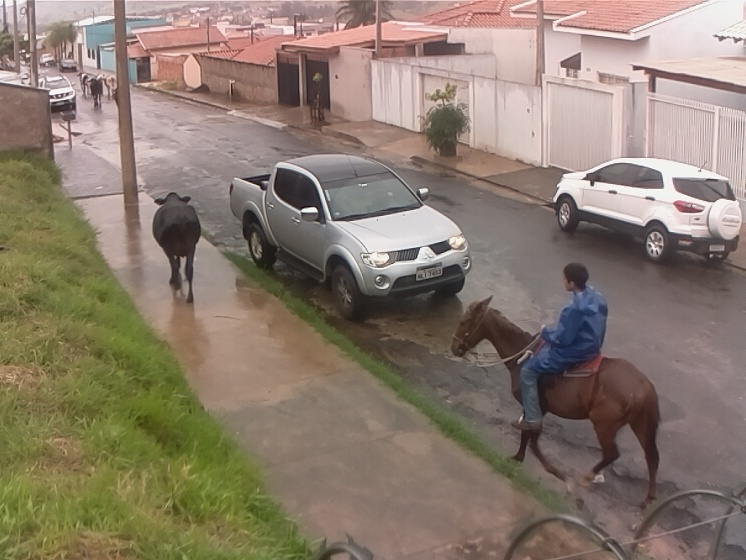person: (507, 259, 610, 436)
